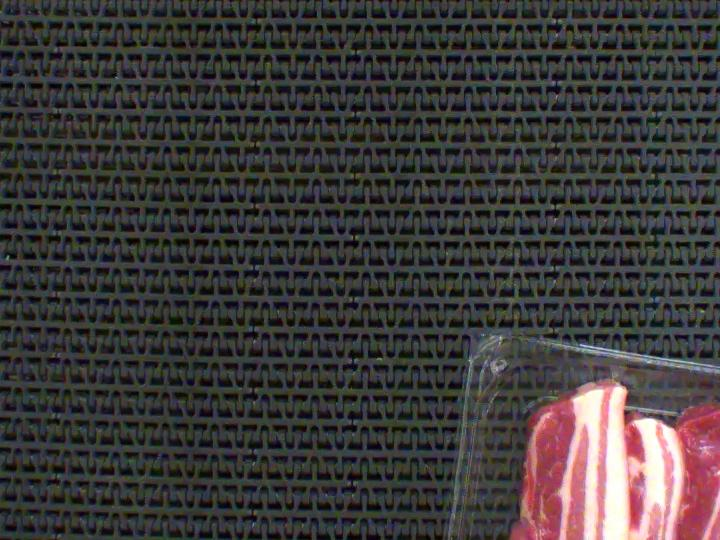packaging-error: (583, 359, 642, 389)
